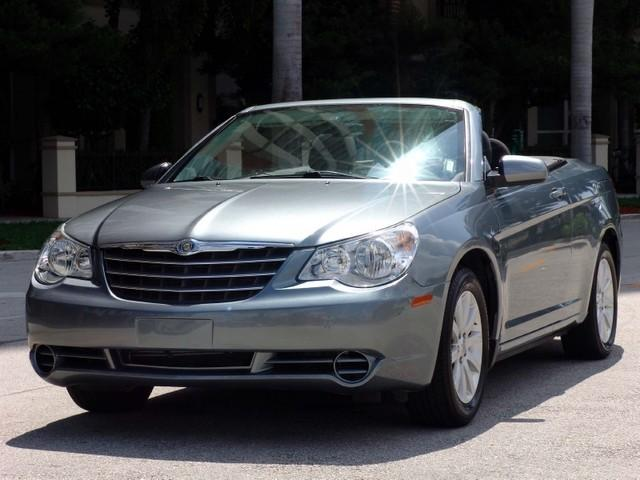car: (0, 70, 640, 480)
